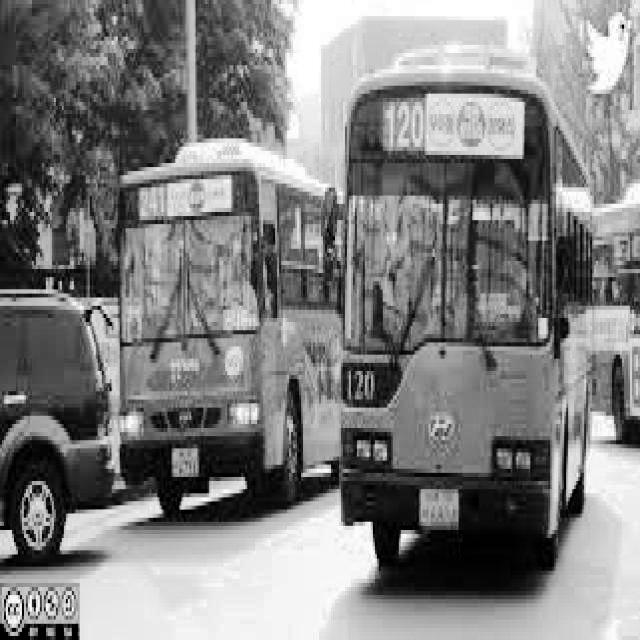Bus: (338, 49, 594, 562), (118, 149, 338, 476), (0, 292, 119, 566)
